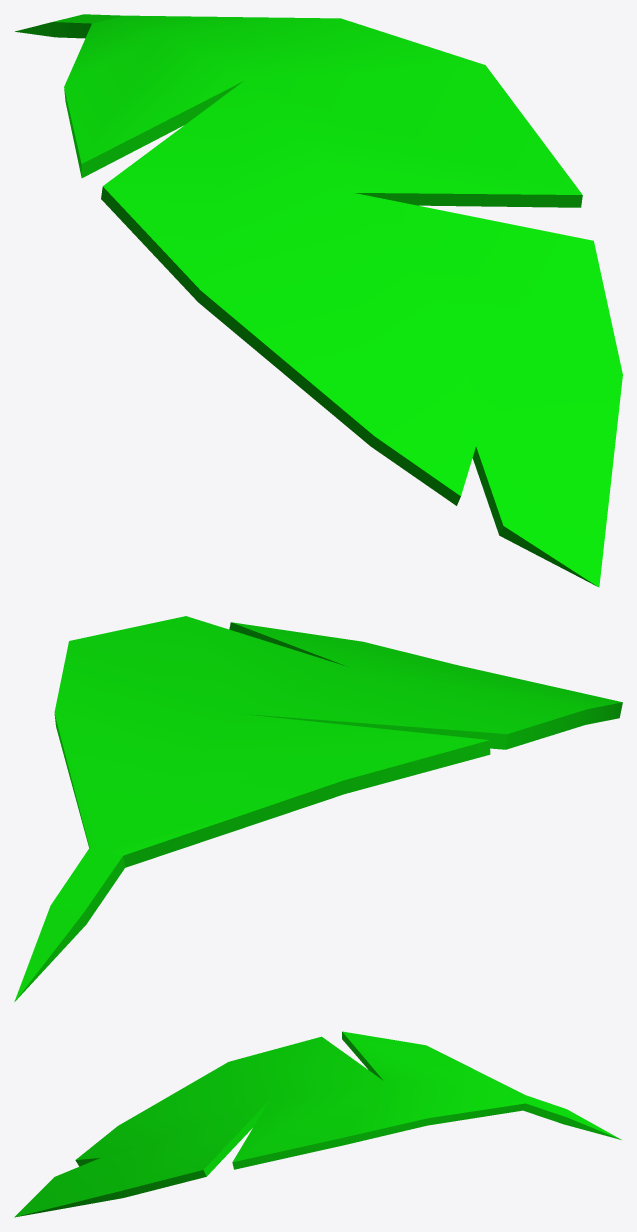
File: palm_1.fbx
3 views of the same model, one above another, from view 1: azimuth 30°, elevation 25°; view 2: azimuth 150°, elevation 25°; view 3: azimuth 270°, elevation 25° (orthographic). The views are drawn at different scales.
Visible parts, largest first — view 1: Palm_1; view 2: Palm_1; view 3: Palm_1.
Part boxes in pixels (x1,y1,x2,y2): Palm_1: [15, 14, 622, 587]; Palm_1: [14, 616, 622, 1001]; Palm_1: [14, 1031, 621, 1217].
Bounding box in the file's own units: 2.07 × 1.23 × 5.06.
